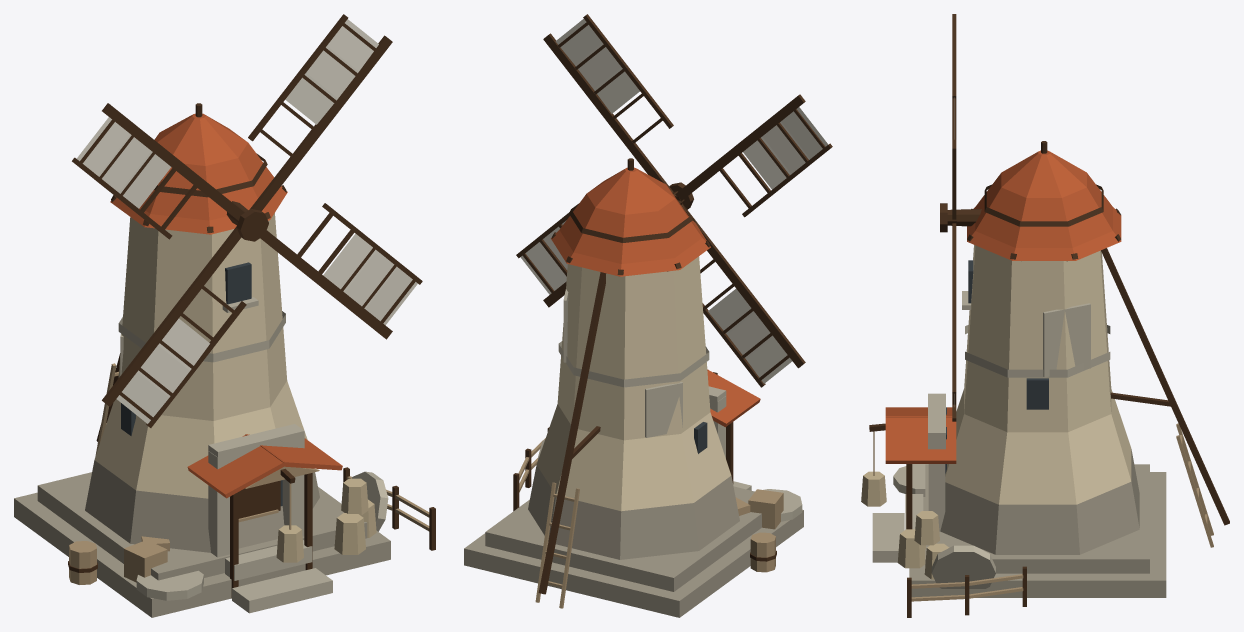
File: era1-windmill-i6Rivy--.glb
The picture shows the model from 3 angles, left to right: view 1: azimuth 30°, elevation 25°; view 2: azimuth 150°, elevation 25°; view 3: azimuth 270°, elevation 25°; orthographic projection. The views are drawn at different scales.
Parts seen in each view (by area): view 1: WM_Shaft, WM_ShaftLow, WM_Skirt, WM_Sail2, WM_Sail0, WM_Sail1, WM_PlinthLow, WM_Sail3, WM_PlinthHigh, WM_CapLow, WM_CapTop, WM_StepLow (+21 smaller); view 2: WM_Shaft, WM_ShaftLow, WM_Skirt, WM_PlinthLow, WM_PlinthHigh, WM_Sail0, WM_Sail1, WM_CapLow, WM_Sail2, WM_CapTop, WM_Tailpole, WM_CapEave (+10 smaller); view 3: WM_Shaft, WM_ShaftLow, WM_Skirt, WM_PlinthLow, WM_CapLow, WM_PlinthHigh, WM_CapTop, WM_PorchRoofR, WM_Patch0, WM_CapEave, WM_Tailpole, WM_MillstoneLean (+14 smaller).
Boxes of the visible parts, x1,y1,x2,y2 form: WM_Shaft: (118, 213, 287, 420); WM_ShaftLow: (94, 381, 307, 498); WM_Skirt: (85, 460, 319, 552); WM_Sail2: (102, 226, 246, 427); WM_Sail0: (248, 14, 392, 210); WM_Sail1: (72, 103, 244, 239); WM_PlinthLow: (14, 492, 390, 617); WM_Sail3: (260, 203, 422, 339); WM_PlinthHigh: (37, 472, 367, 580); WM_CapLow: (141, 135, 273, 220); WM_CapTop: (155, 113, 247, 165); WM_StepLow: (232, 568, 332, 613); WM_Shaft: (557, 256, 710, 440); WM_ShaftLow: (536, 404, 731, 511); WM_Skirt: (528, 465, 739, 559); WM_PlinthLow: (464, 509, 803, 617); WM_PlinthHigh: (485, 486, 761, 591); WM_Sail0: (543, 14, 673, 192); WM_Sail1: (675, 94, 832, 217); WM_CapLow: (559, 187, 702, 263); WM_Sail2: (681, 204, 805, 387); WM_CapTop: (586, 167, 674, 214); WM_Tailpole: (538, 272, 606, 594); WM_CapEave: (551, 216, 710, 276); WM_Shaft: (964, 245, 1111, 432); WM_ShaftLow: (945, 389, 1131, 504); WM_Skirt: (940, 449, 1139, 554); WM_PlinthLow: (909, 472, 1166, 597); WM_CapLow: (975, 173, 1112, 247); WM_PlinthHigh: (925, 464, 1149, 573); WM_CapTop: (1001, 150, 1086, 197); WM_PorchRoofR: (885, 416, 956, 463); WM_Patch0: (1043, 303, 1090, 377); WM_CapEave: (967, 207, 1121, 260); WM_Tailpole: (1101, 248, 1229, 525); WM_MillstoneLean: (931, 545, 995, 588).
Bounding box in the file's own units: 5.85 × 8.52 × 5.74.
